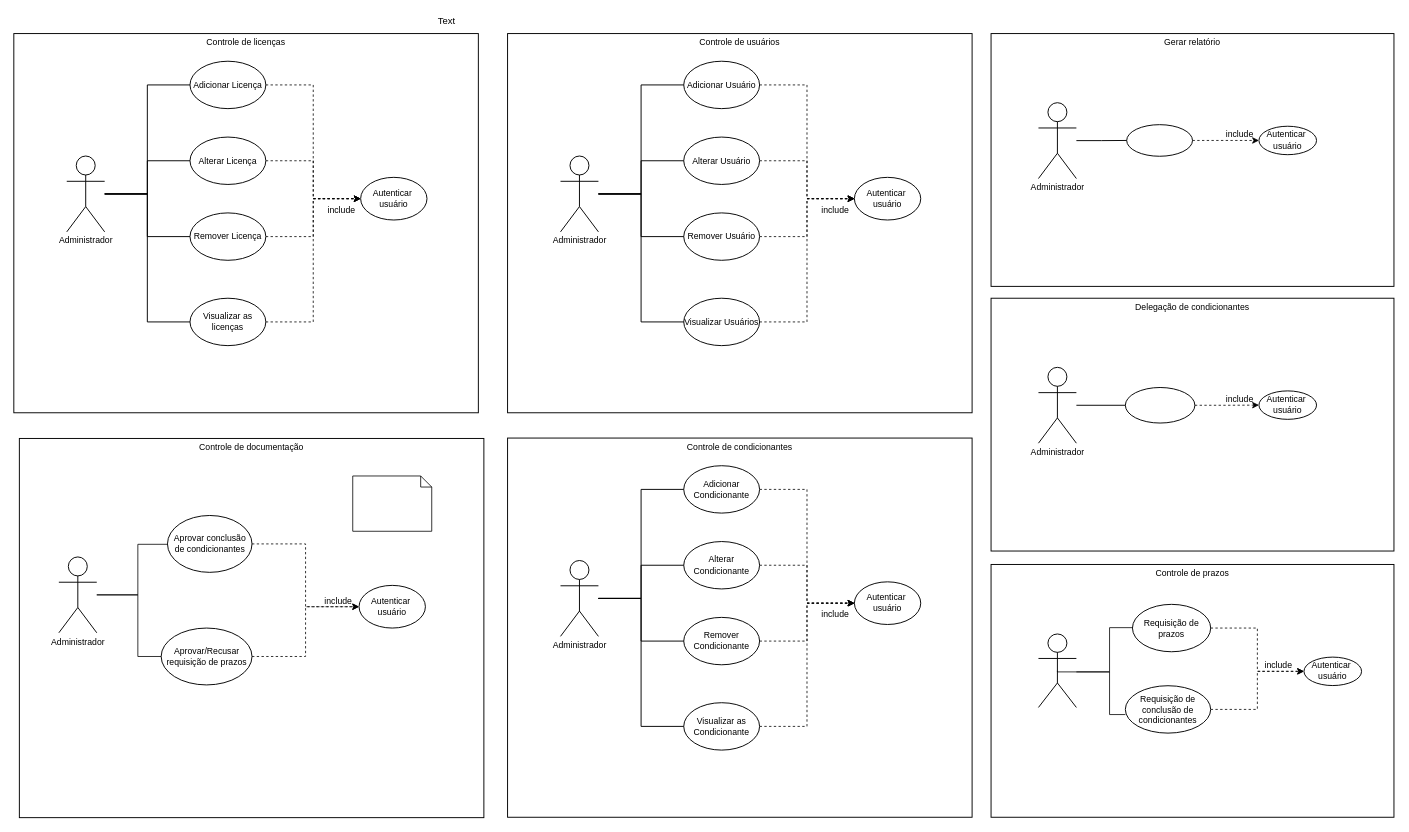
The diagram is 1409 pixels wide and 832 high, and some of its shapes have lost their labels. Here are the shapes that lost their labels. From the top down, the centre of each, then its label:
pixel 1159 140: Gerar relátorio
pixel 1159 405: Delegar condicionantes
pixel 392 503: Tem como elemento novo, "Aprovar conclusão de condicionantes"
pixel 1057 670: Usuário
